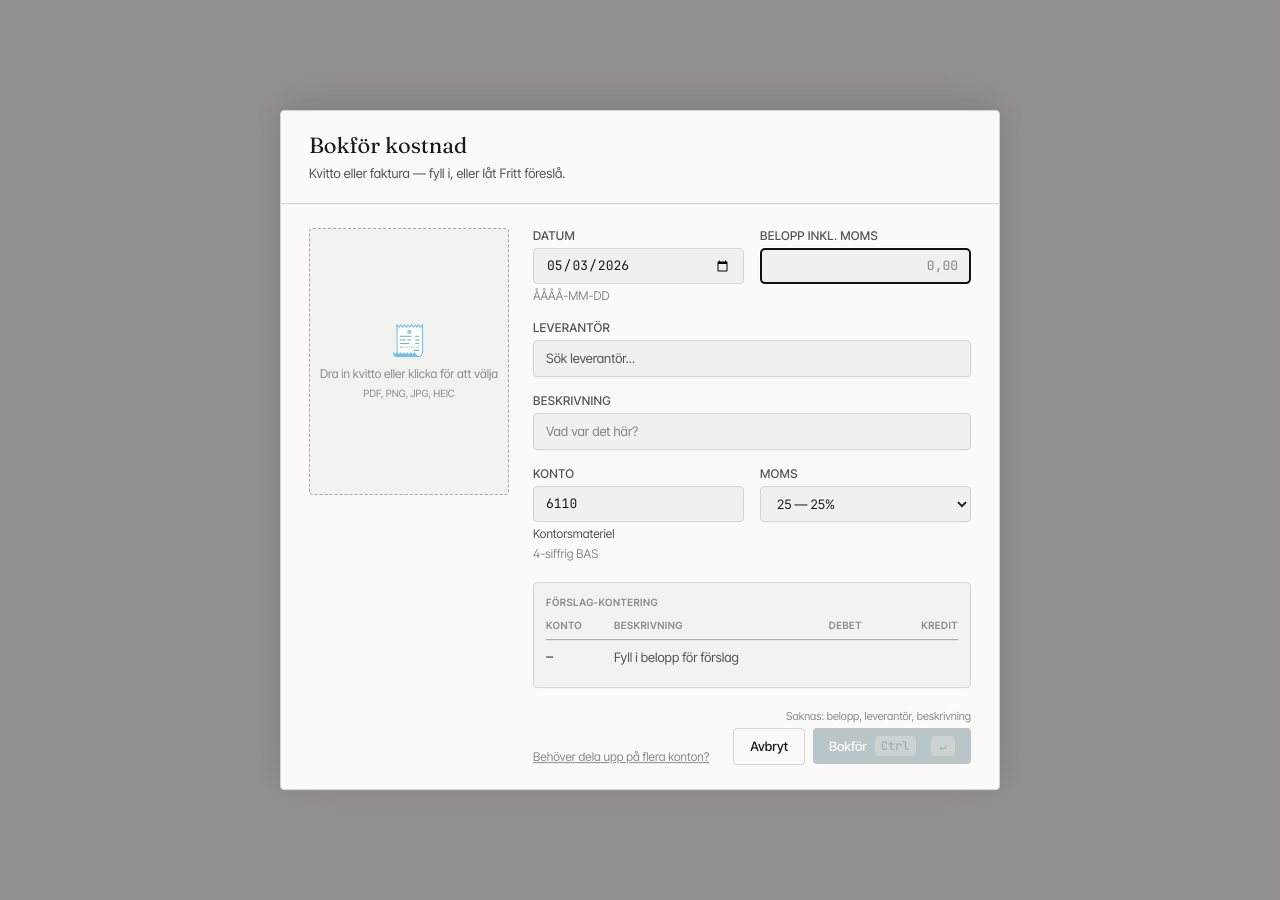
Sprint VS-3 — BokforKostnadSheet › VS-19 visar inline-fel om kontonummer inte finns i kontoplan
Replace the text in the field with test id "vardag-kostnad-account" with "9999" at coordinates (638, 504), box top-left (533, 486), bottom-right (744, 522)
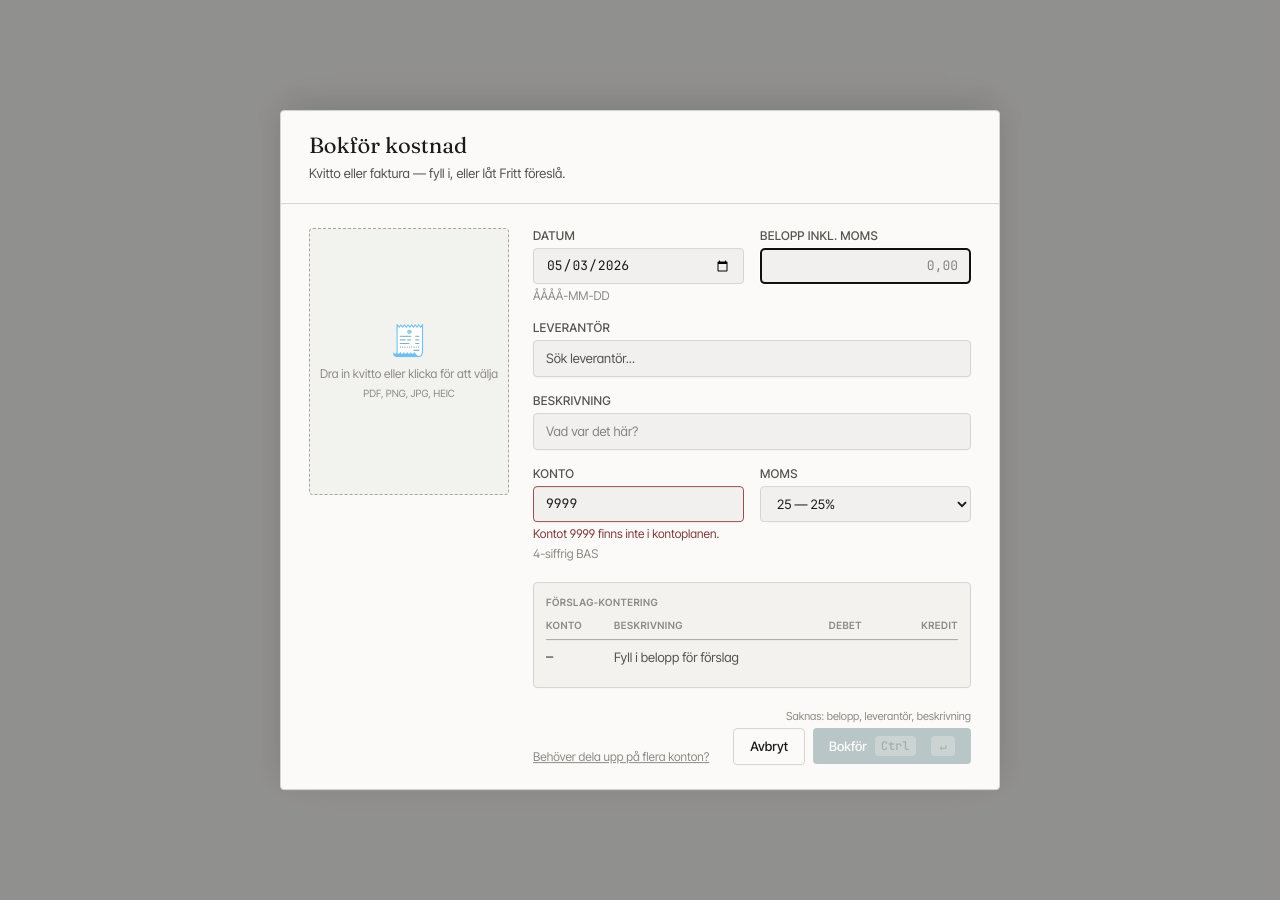
Expected: the button with test id "vardag-kostnad-submit" is disabled, top-left (813, 729), bottom-right (971, 765)
Now the message with test id "vardag-kostnad-account-error" shows "finns inte i kontoplanen", box top-left (533, 526), bottom-right (719, 541)
